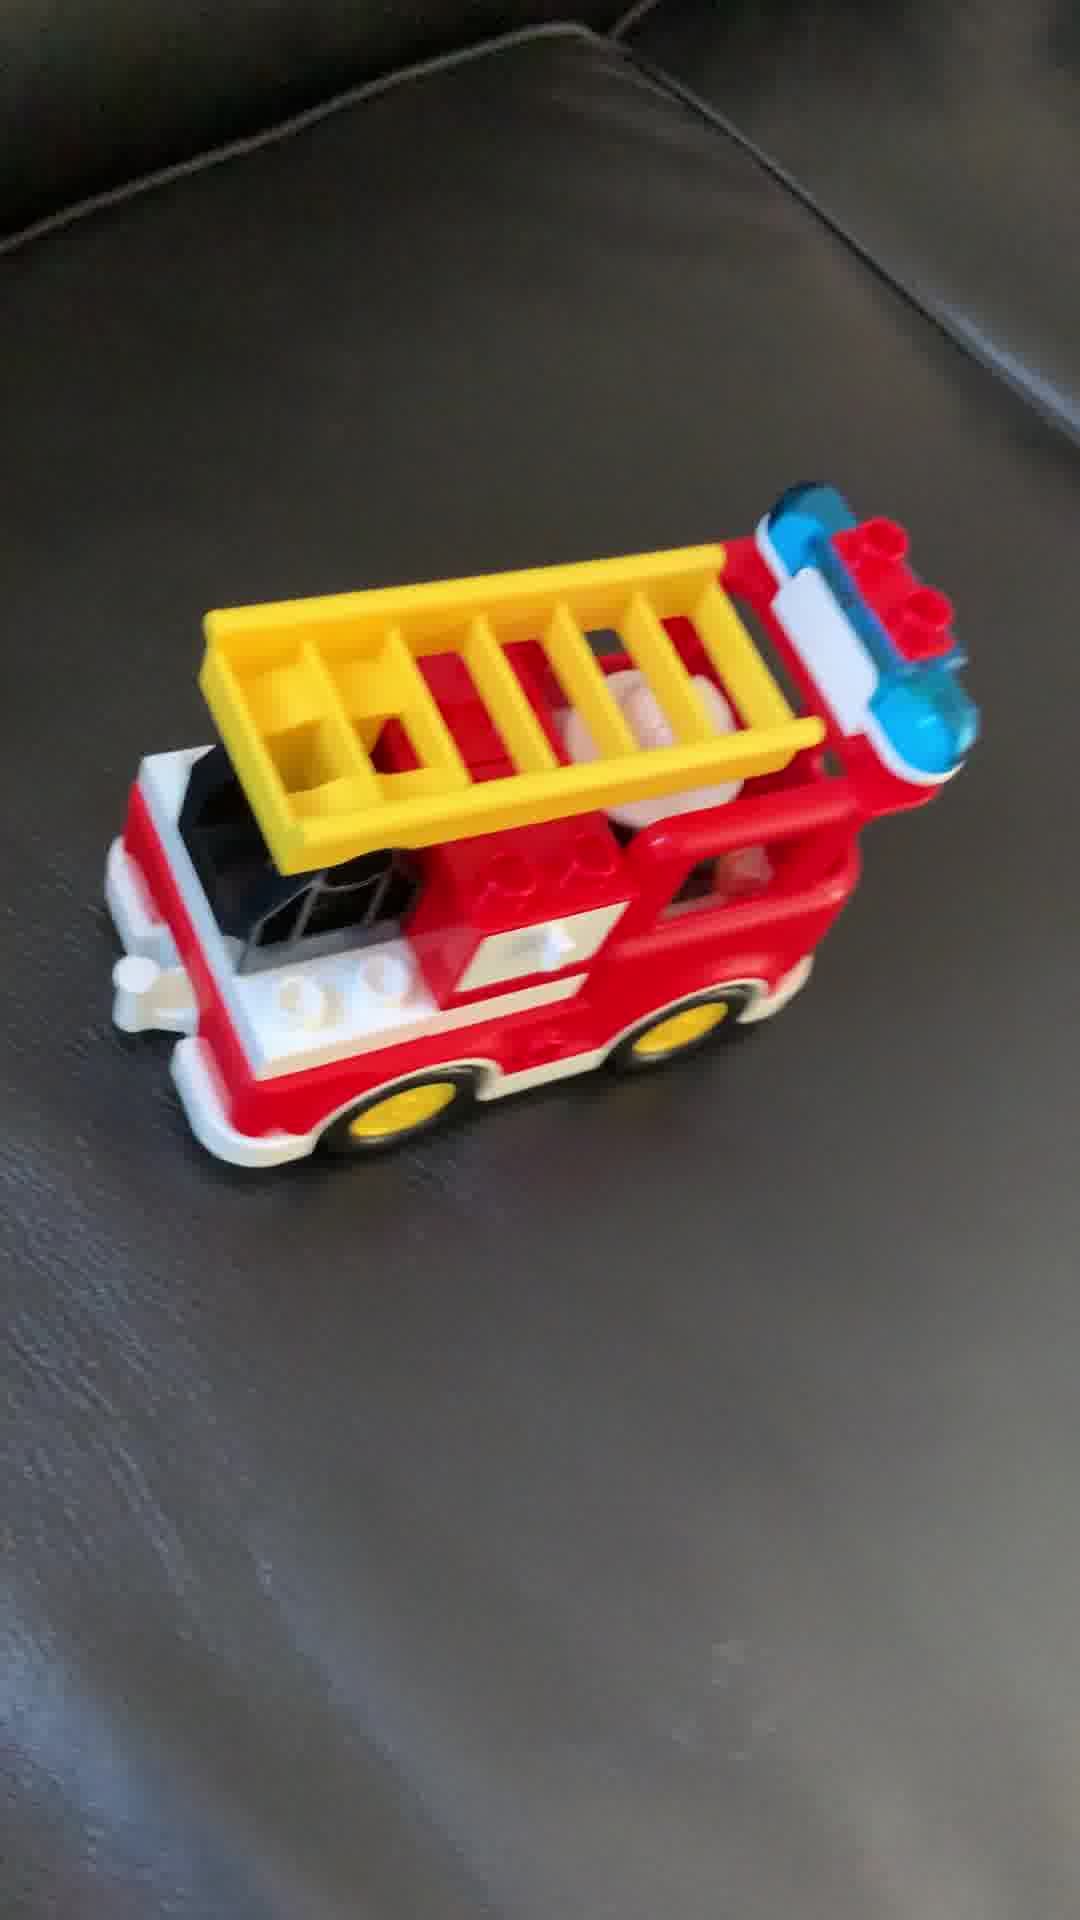lego fire truck: (95, 473, 986, 1184)
